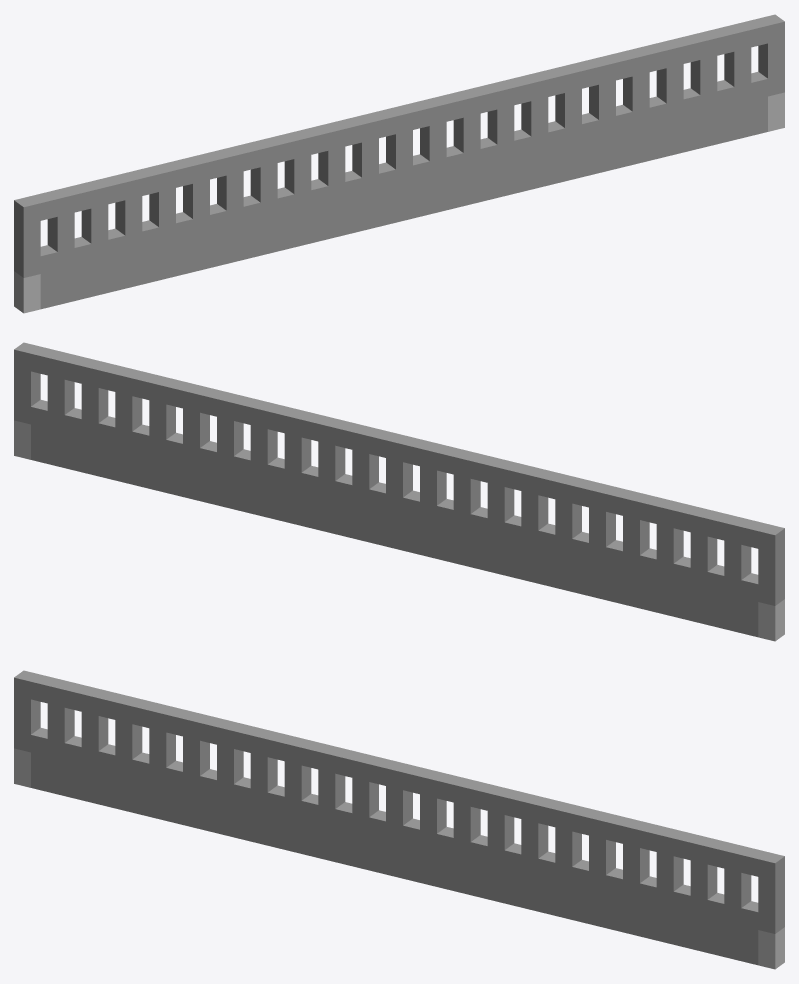
File: church6-4.obj
3 renders of one model, top to bottom at view 1: azimuth 30°, elevation 25°; view 2: azimuth 150°, elevation 25°; view 3: azimuth 330°, elevation 25°, orthographic.
Parts seen in each view (by area): view 1: church6-4; view 2: church6-4; view 3: church6-4.
Part boxes in pixels (x1,y1,x2,y2): church6-4: (14,14,784,313); church6-4: (14,342,784,641); church6-4: (14,670,784,969).
Bounding box in the file's own units: 45 × 6 × 1.
1 material, 1 textured.
